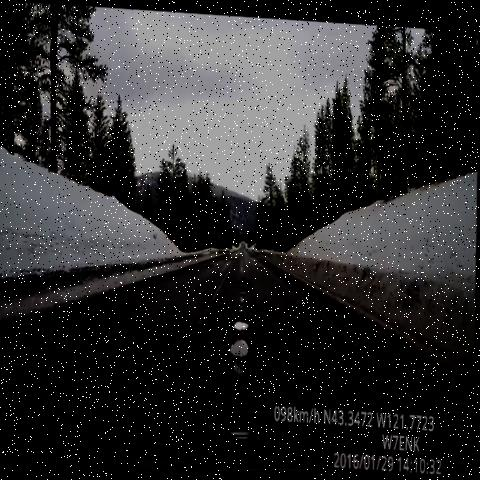pothole: (230, 353, 255, 397), (230, 412, 259, 440), (229, 332, 259, 359), (230, 309, 256, 333), (236, 285, 251, 316), (236, 271, 253, 290)
